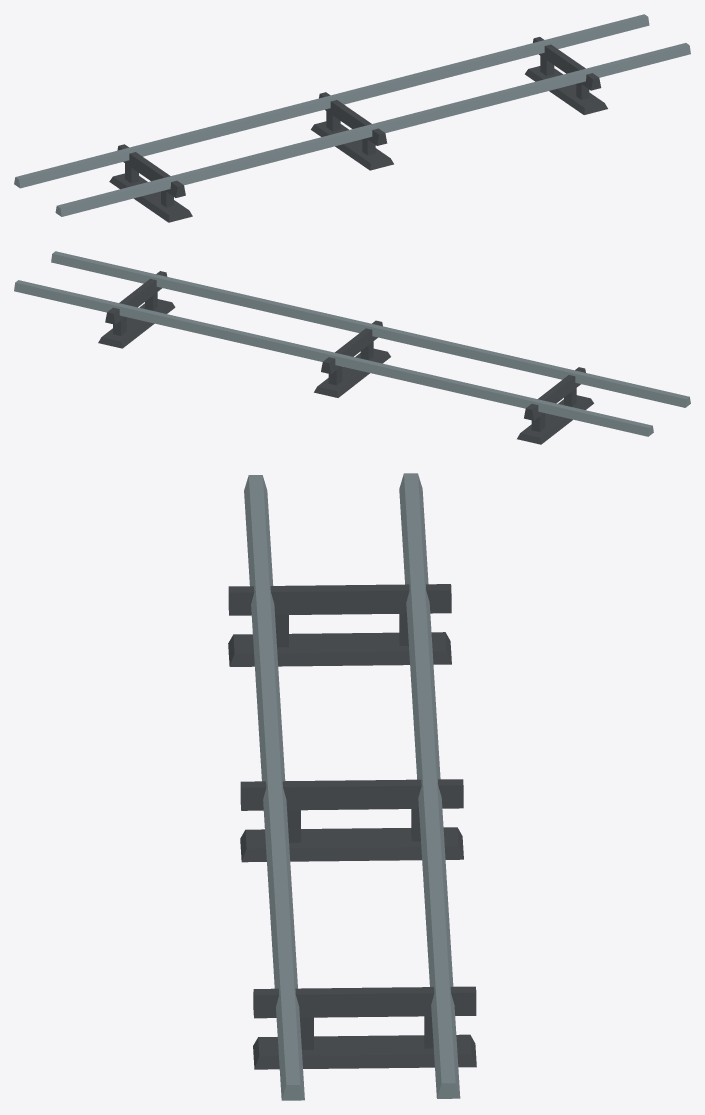
The model's file is Track_Straight.glb.
3 views of the same model, one above another, from view 1: azimuth 30°, elevation 25°; view 2: azimuth 150°, elevation 25°; view 3: azimuth 270°, elevation 25° (orthographic). The views are drawn at different scales.
Visible parts, largest first — view 1: SM_Bld_Track_Straight_01; view 2: SM_Bld_Track_Straight_01; view 3: SM_Bld_Track_Straight_01.
Part boxes in pixels (x1,y1,x2,y2): SM_Bld_Track_Straight_01: (14,14,690,222); SM_Bld_Track_Straight_01: (14,251,690,444); SM_Bld_Track_Straight_01: (228,473,476,1100).
Bounding box in the file's own units: 2.51 × 0.1338 × 0.4307.
Materials: 1 (1 with a texture image).
